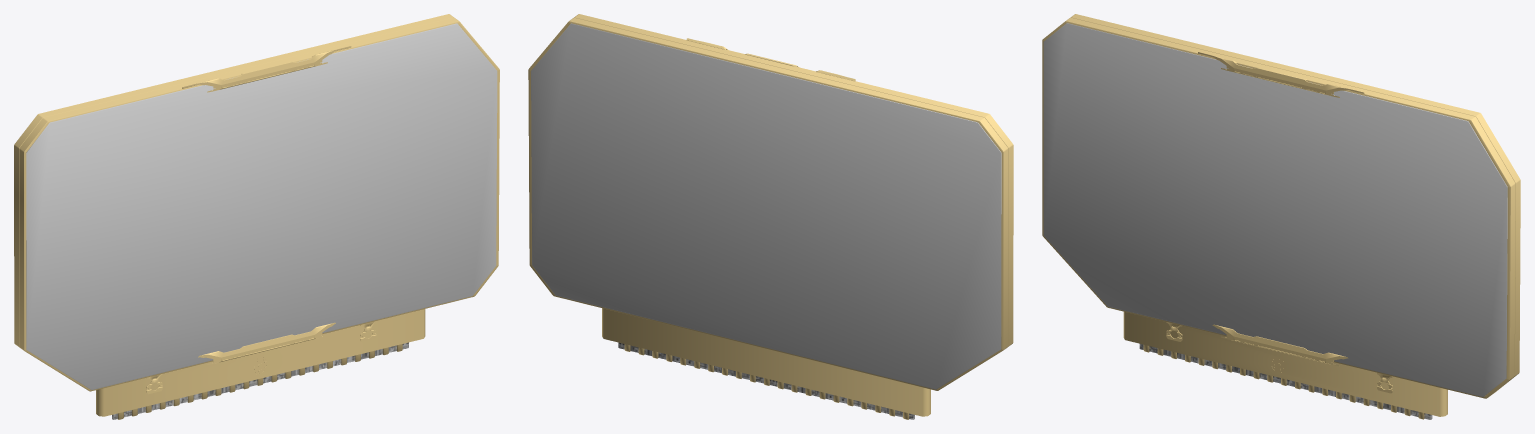
Rendered from cartridge zloty.gltf.
3 views of the same model, side by side, from view 1: azimuth 30°, elevation 25°; view 2: azimuth 150°, elevation 25°; view 3: azimuth 330°, elevation 25° (orthographic).
Visible parts, largest first — view 1: cartridge low; view 2: cartridge low; view 3: cartridge low.
Boxes of the visible parts, bbox=[...] form: cartridge low: bbox=[14, 14, 499, 419]; cartridge low: bbox=[528, 14, 1013, 419]; cartridge low: bbox=[1042, 14, 1520, 419].
Size of the model in its own units: 1.97 by 1.27 by 0.0866.
5 materials, 4 textured.
